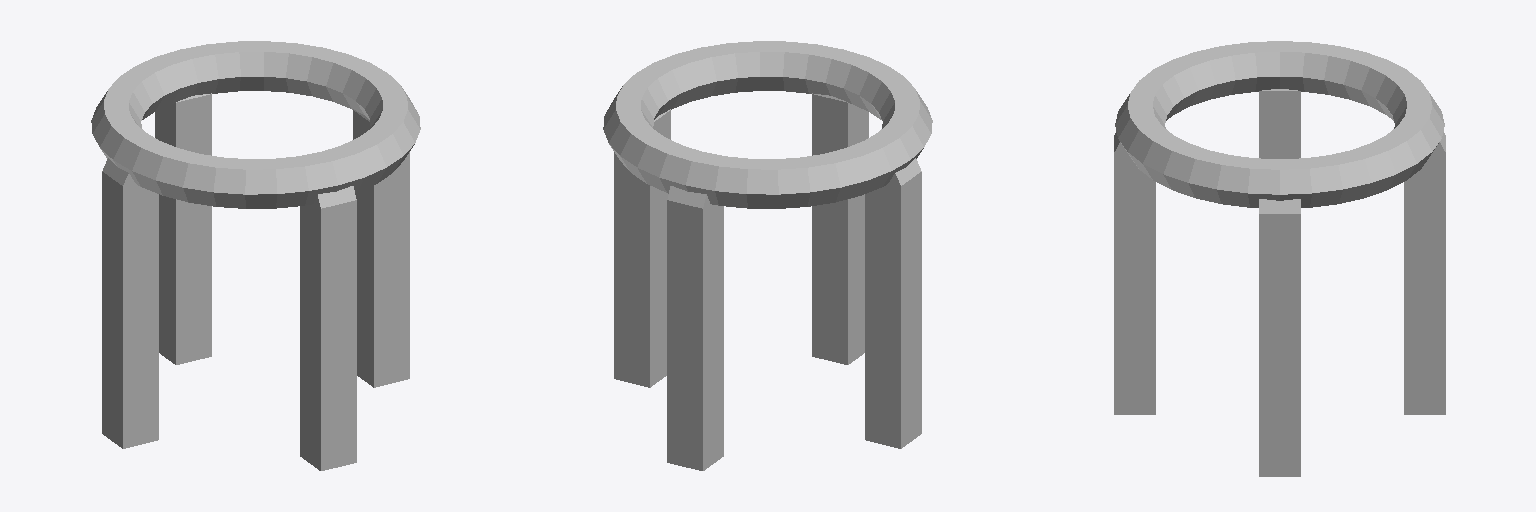
The model's file is cannon_base.obj.
3 views of the same model, side by side, from view 1: azimuth 30°, elevation 25°; view 2: azimuth 150°, elevation 25°; view 3: azimuth 270°, elevation 25° (orthographic).
Visible parts, largest first — view 1: 环体.001, 立方体.016_立方体.002, 立方体.003_立方体.017, 立方体.002_立方体.016, 立方体.001_立方体.014; view 2: 环体.001, 立方体.001_立方体.014, 立方体.003_立方体.017, 立方体.002_立方体.016, 立方体.016_立方体.002; view 3: 环体.001, 立方体.002_立方体.016, 立方体.001_立方体.014, 立方体.016_立方体.002, 立方体.003_立方体.017.
Part boxes in pixels (x1,y1,x2,y2): 环体.001: (91, 41, 420, 208); 立方体.016_立方体.002: (300, 186, 356, 470); 立方体.003_立方体.017: (102, 158, 158, 448); 立方体.002_立方体.016: (353, 109, 409, 387); 立方体.001_立方体.014: (155, 93, 211, 364); 环体.001: (603, 41, 932, 208); 立方体.001_立方体.014: (667, 186, 723, 470); 立方体.003_立方体.017: (865, 158, 921, 448); 立方体.002_立方体.016: (614, 109, 670, 387); 立方体.016_立方体.002: (812, 93, 868, 364); 环体.001: (1115, 41, 1444, 207); 立方体.002_立方体.016: (1259, 199, 1300, 476); 立方体.001_立方体.014: (1404, 132, 1445, 414); 立方体.016_立方体.002: (1114, 132, 1155, 414); 立方体.003_立方体.017: (1259, 89, 1300, 158).
Size of the model in its own units: 1 by 1 by 1.